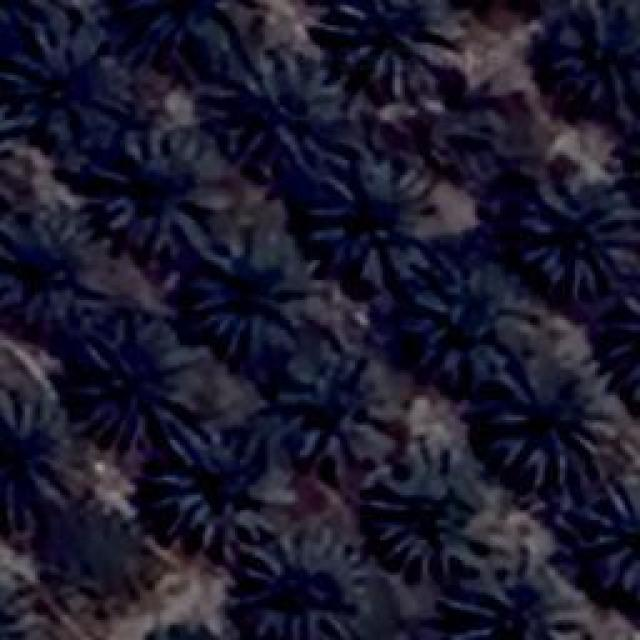PalmTree: (32, 39, 624, 341), (368, 444, 510, 578), (75, 320, 203, 452), (98, 125, 220, 258), (487, 360, 615, 485), (410, 258, 532, 388), (315, 158, 435, 288), (518, 172, 638, 298), (160, 427, 278, 555), (225, 52, 348, 170), (190, 232, 302, 358), (5, 20, 130, 130), (282, 347, 396, 465), (235, 534, 355, 638), (327, 0, 455, 95), (0, 388, 75, 534), (0, 213, 92, 318), (535, 6, 640, 96), (48, 509, 136, 609), (460, 570, 585, 640), (435, 97, 525, 175), (590, 478, 638, 592), (0, 91, 26, 217), (130, 616, 236, 640), (0, 89, 18, 219), (0, 575, 30, 640), (127, 623, 236, 640)
